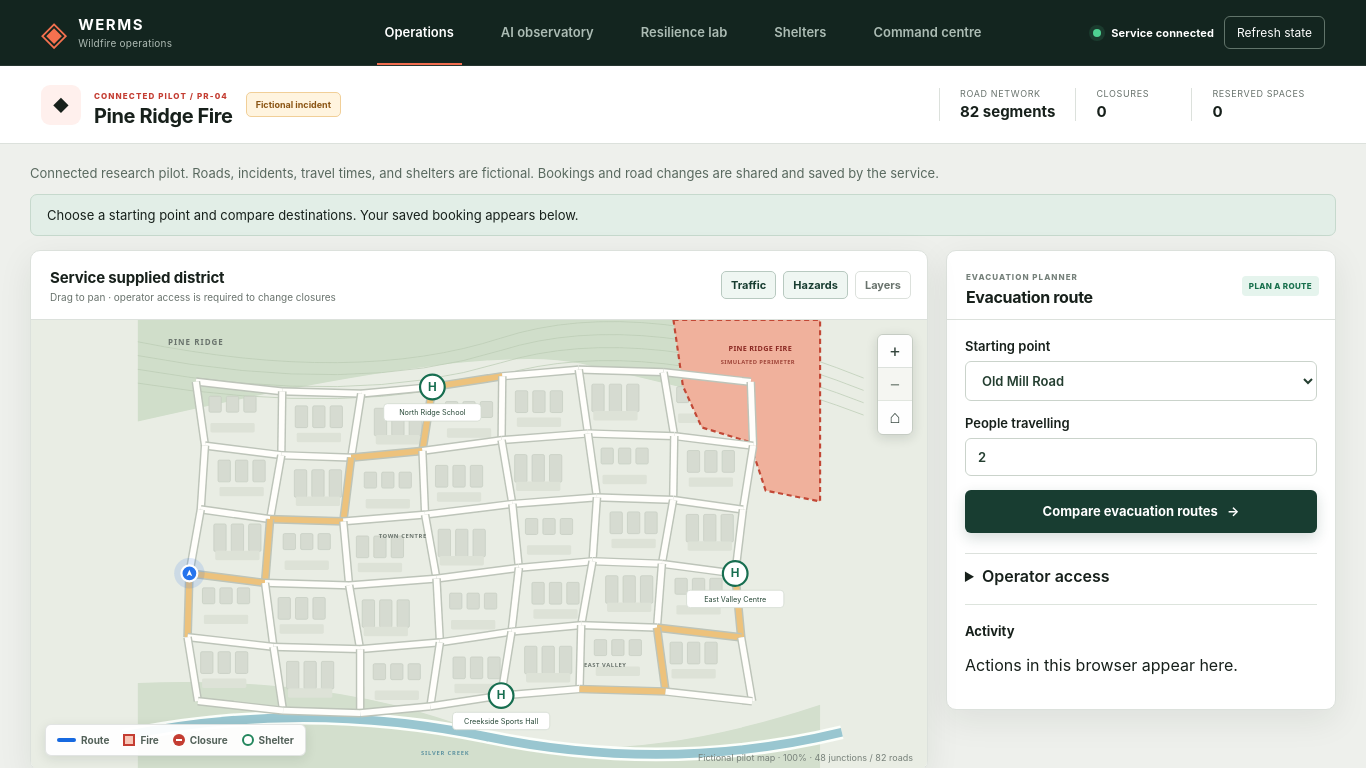
Scenario: cancel sends a service mutation and releases the displayed booking
This screenshot has width=1366, height=768.
Expected: the heading "Service supplied district" is shown, [50,268,224,286]
Click the button "Compare evacuation routes →": click(1141, 511) [965,490,1317,532]
(page scrolled)
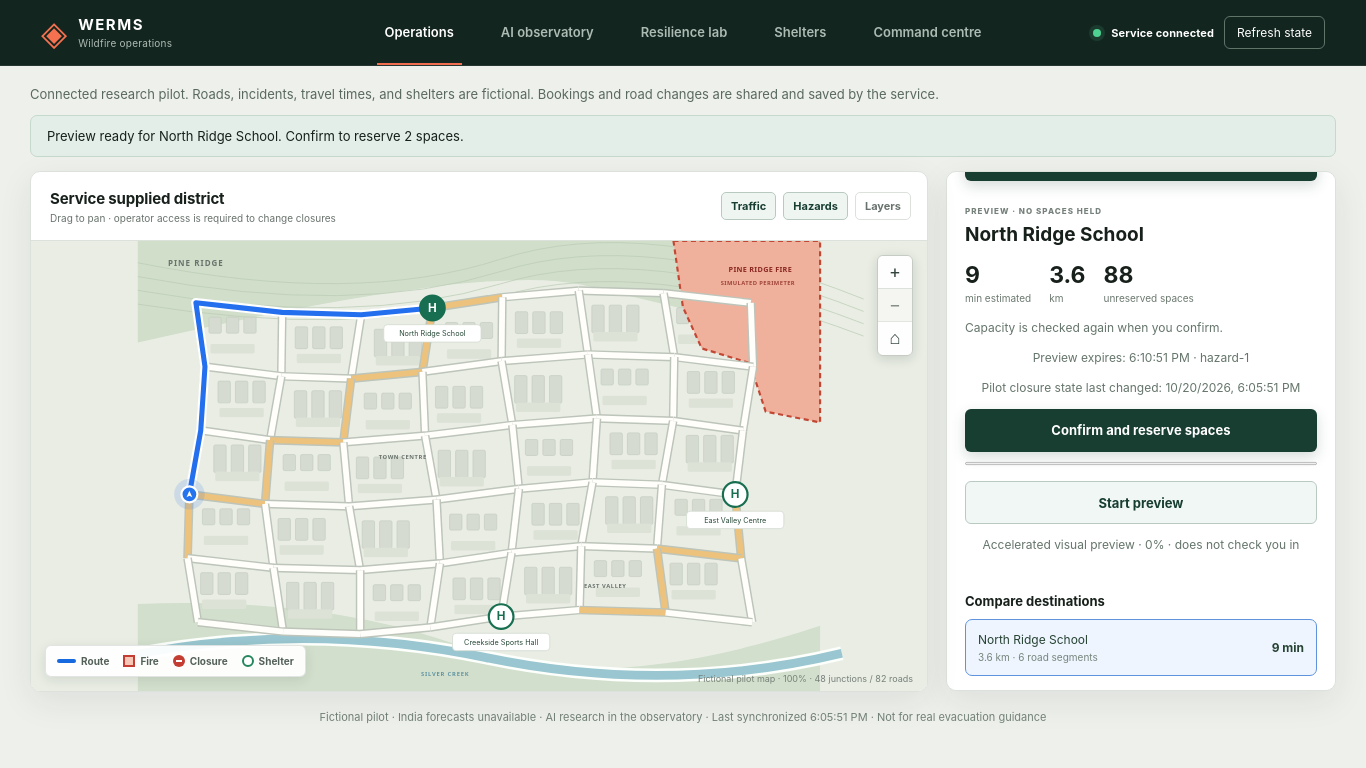
Click the button "Confirm and reserve spaces": click(1141, 430) [965,408,1317,452]
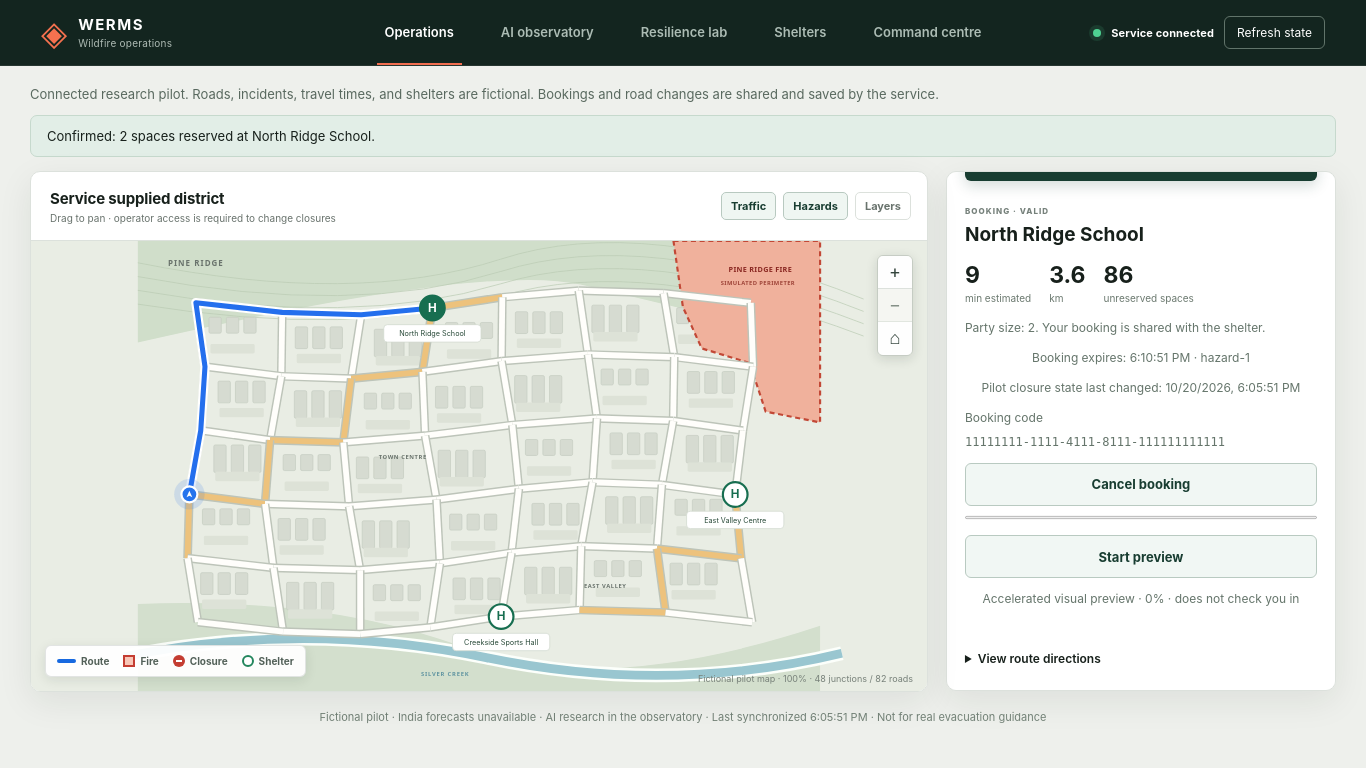
Click the button "Cancel booking": click(1141, 484) [965,462,1317,506]
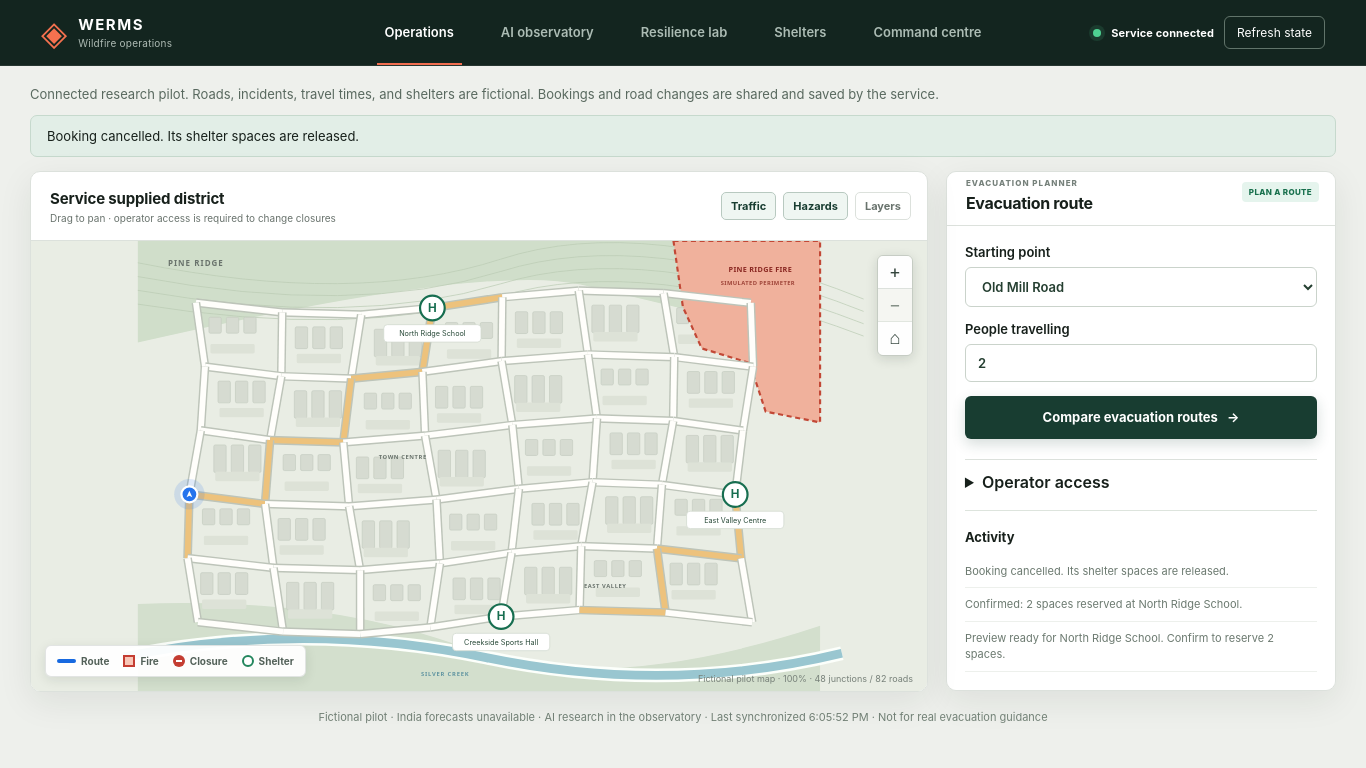
Now the button "Cancel booking" is gone
